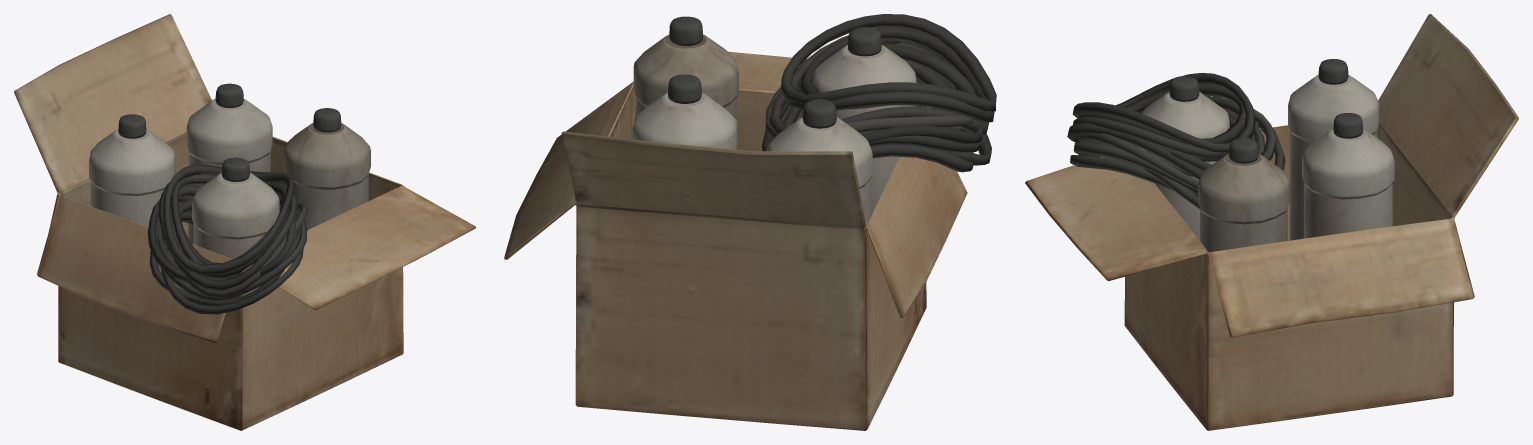
Rendered from prop_small_000.glb.
3 views of the same model, side by side, from view 1: azimuth 30°, elevation 25°; view 2: azimuth 150°, elevation 25°; view 3: azimuth 270°, elevation 25° (orthographic). The views are drawn at different scales.
Visible parts, largest first — view 1: Building_12_004; view 2: Building_12_004; view 3: Building_12_004.
Part boxes in pixels (box(x1,y1,x2,y2)): Building_12_004: box(14, 14, 475, 430); Building_12_004: box(504, 14, 996, 430); Building_12_004: box(1025, 14, 1518, 430).
Size of the model in its own units: 0.6876 by 0.4852 by 0.8.
1 material, 1 textured.
